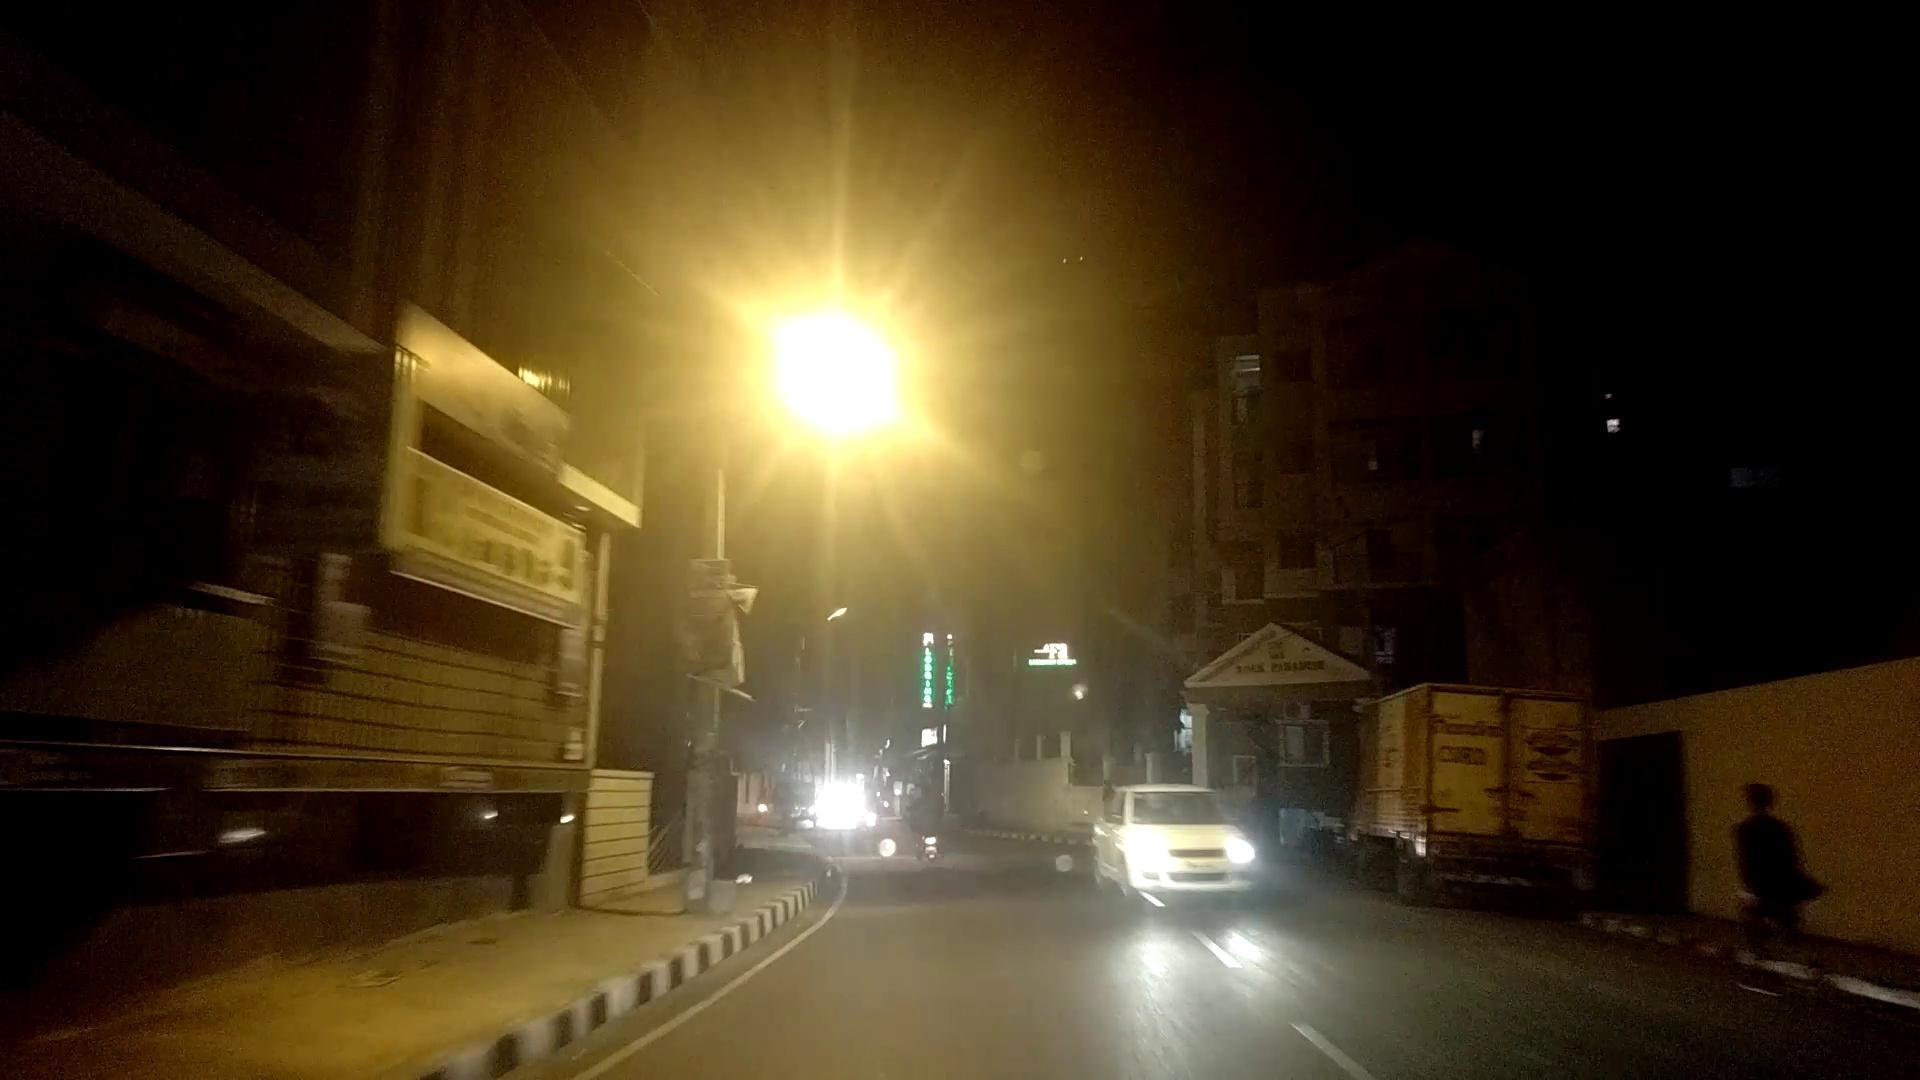on: (640, 232, 1015, 579)
